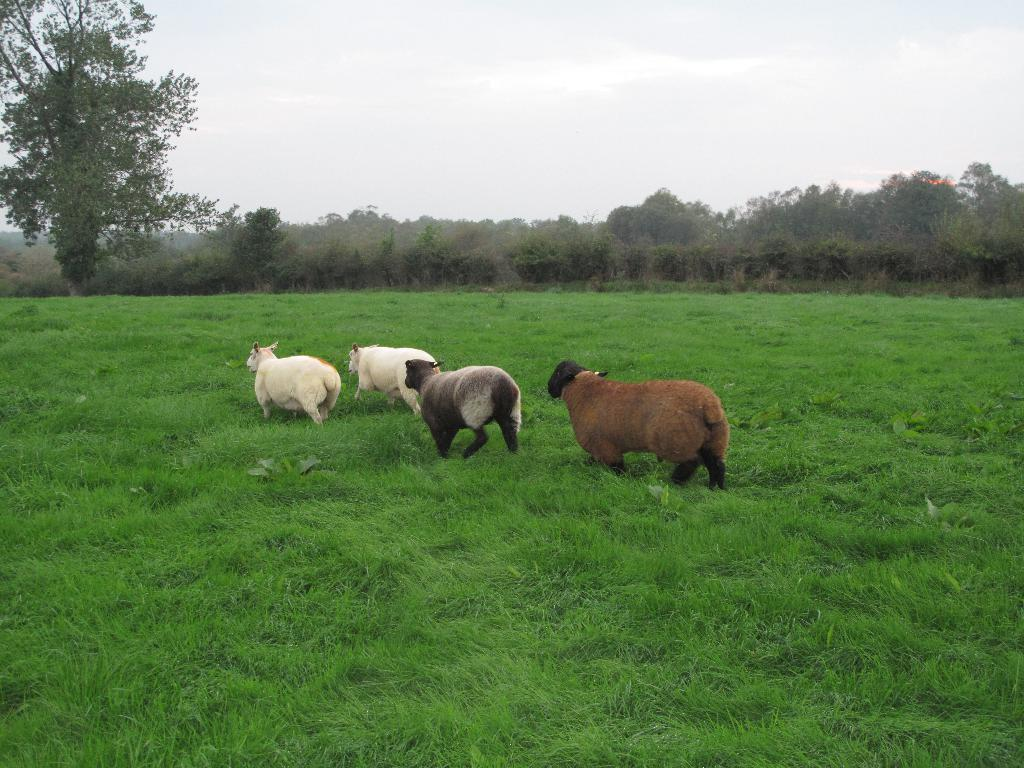sheep: (403, 360, 517, 462), (249, 344, 341, 419)
